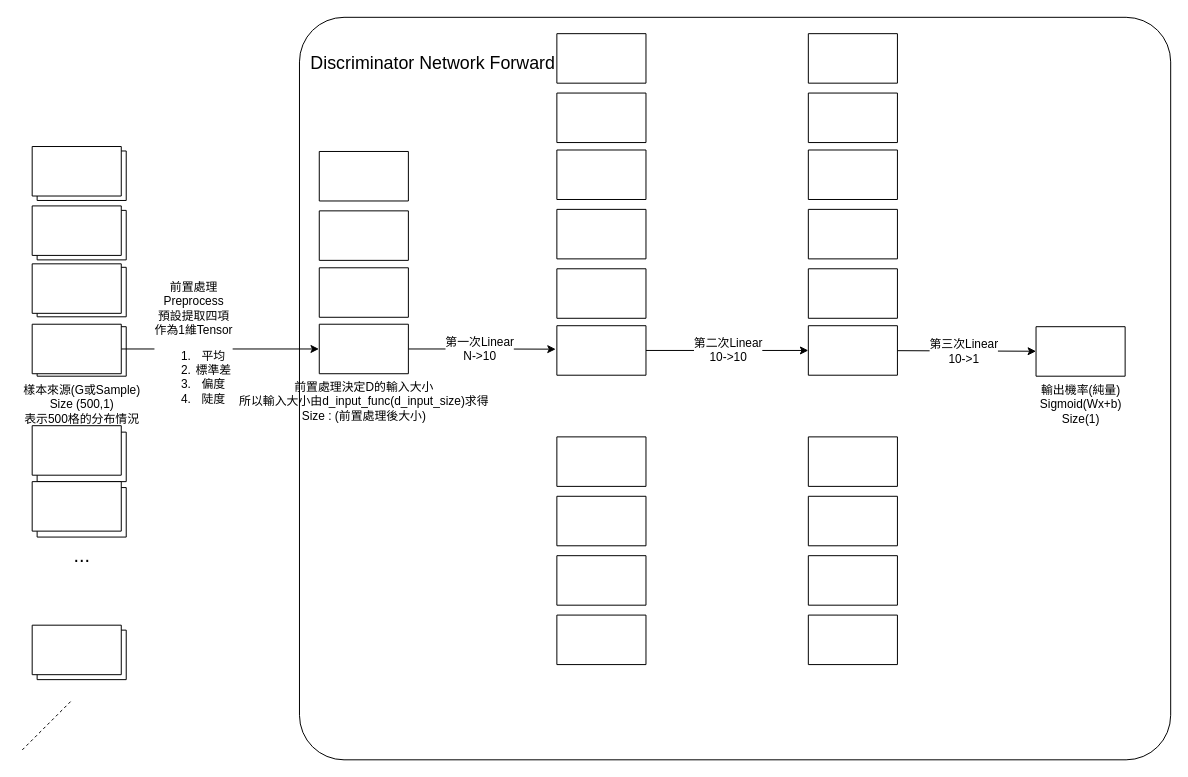
Some shapes in this 1188 by 777 pixel diagram are drawn without their labels. The shapes that lost their labels are listed below. From the top down, each one's centre as x and y in pixels, then its label:
(601,350): 隱藏層1 Sigmoid(Wx+b) Size(10)
(852,350): 隱藏層2 Sigmoid(Wx+b) Size(10)
